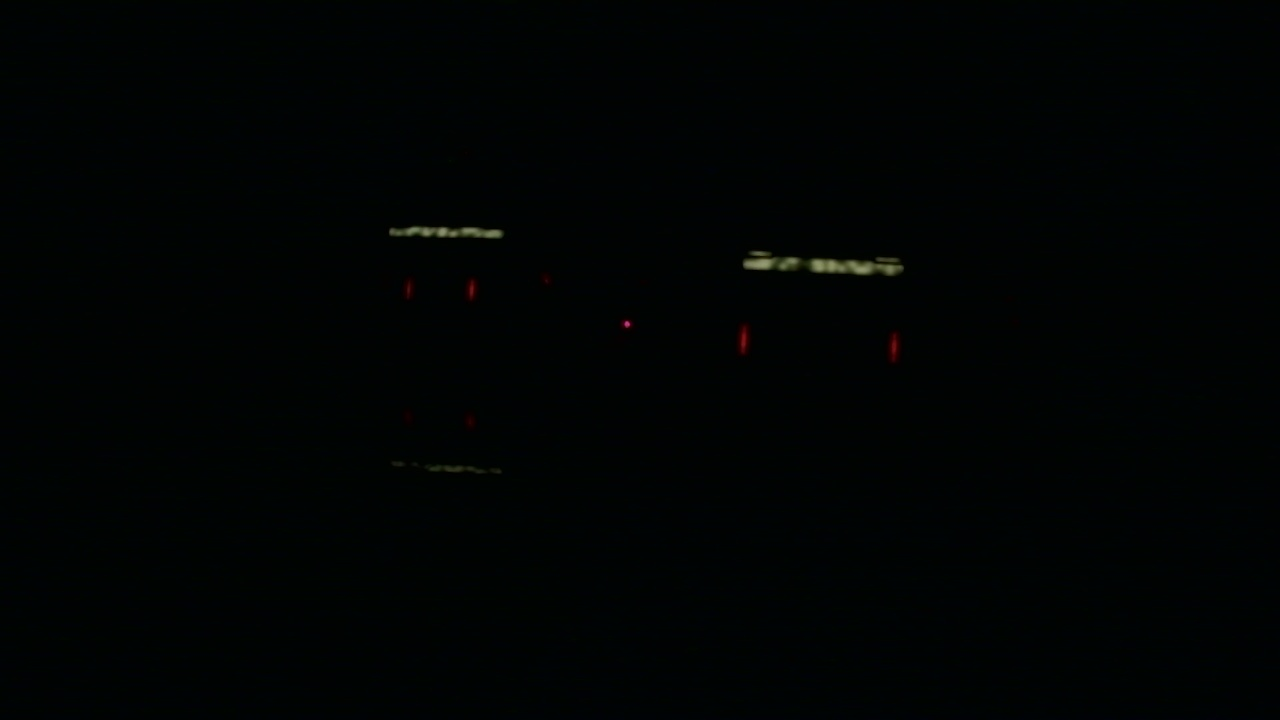lamp: (887, 328, 899, 362), (739, 323, 749, 358), (405, 279, 413, 296), (469, 279, 476, 294)
pair1: (405, 280, 475, 297)
pair2: (739, 324, 899, 365)
